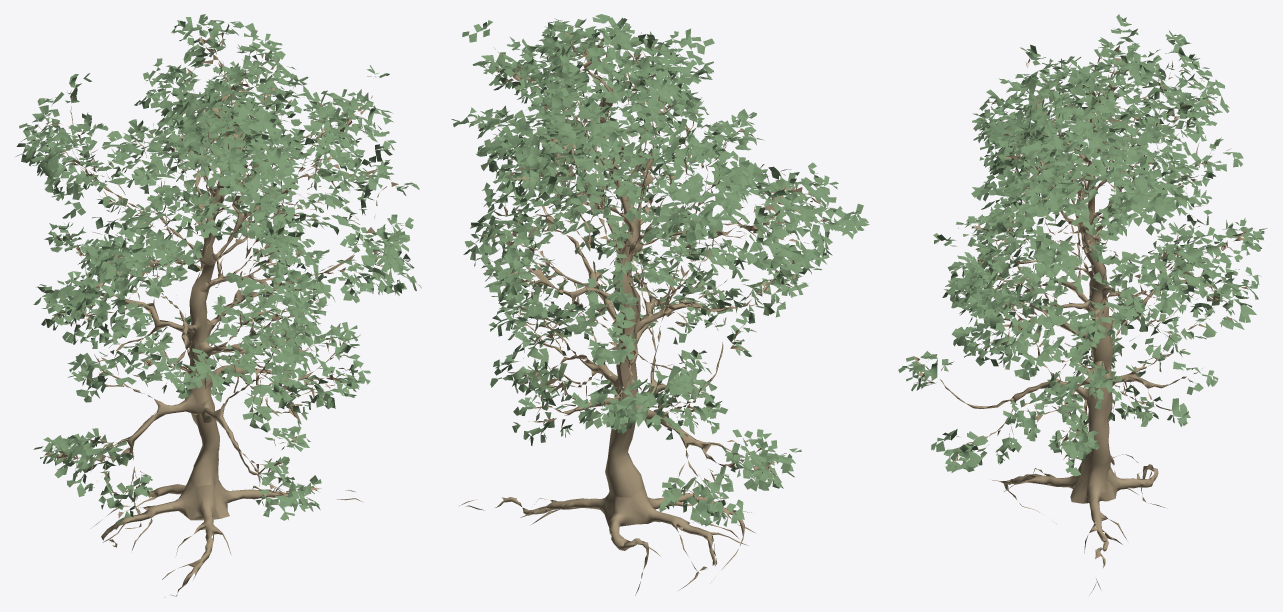
The model's file is bodhi-tree.glb.
3 renders of one model, left to right at view 1: azimuth 30°, elevation 25°; view 2: azimuth 150°, elevation 25°; view 3: azimuth 270°, elevation 25°, orthographic. The views are drawn at different scales.
Bounding box in the file's own units: 29.14 × 41.14 × 25.9.
